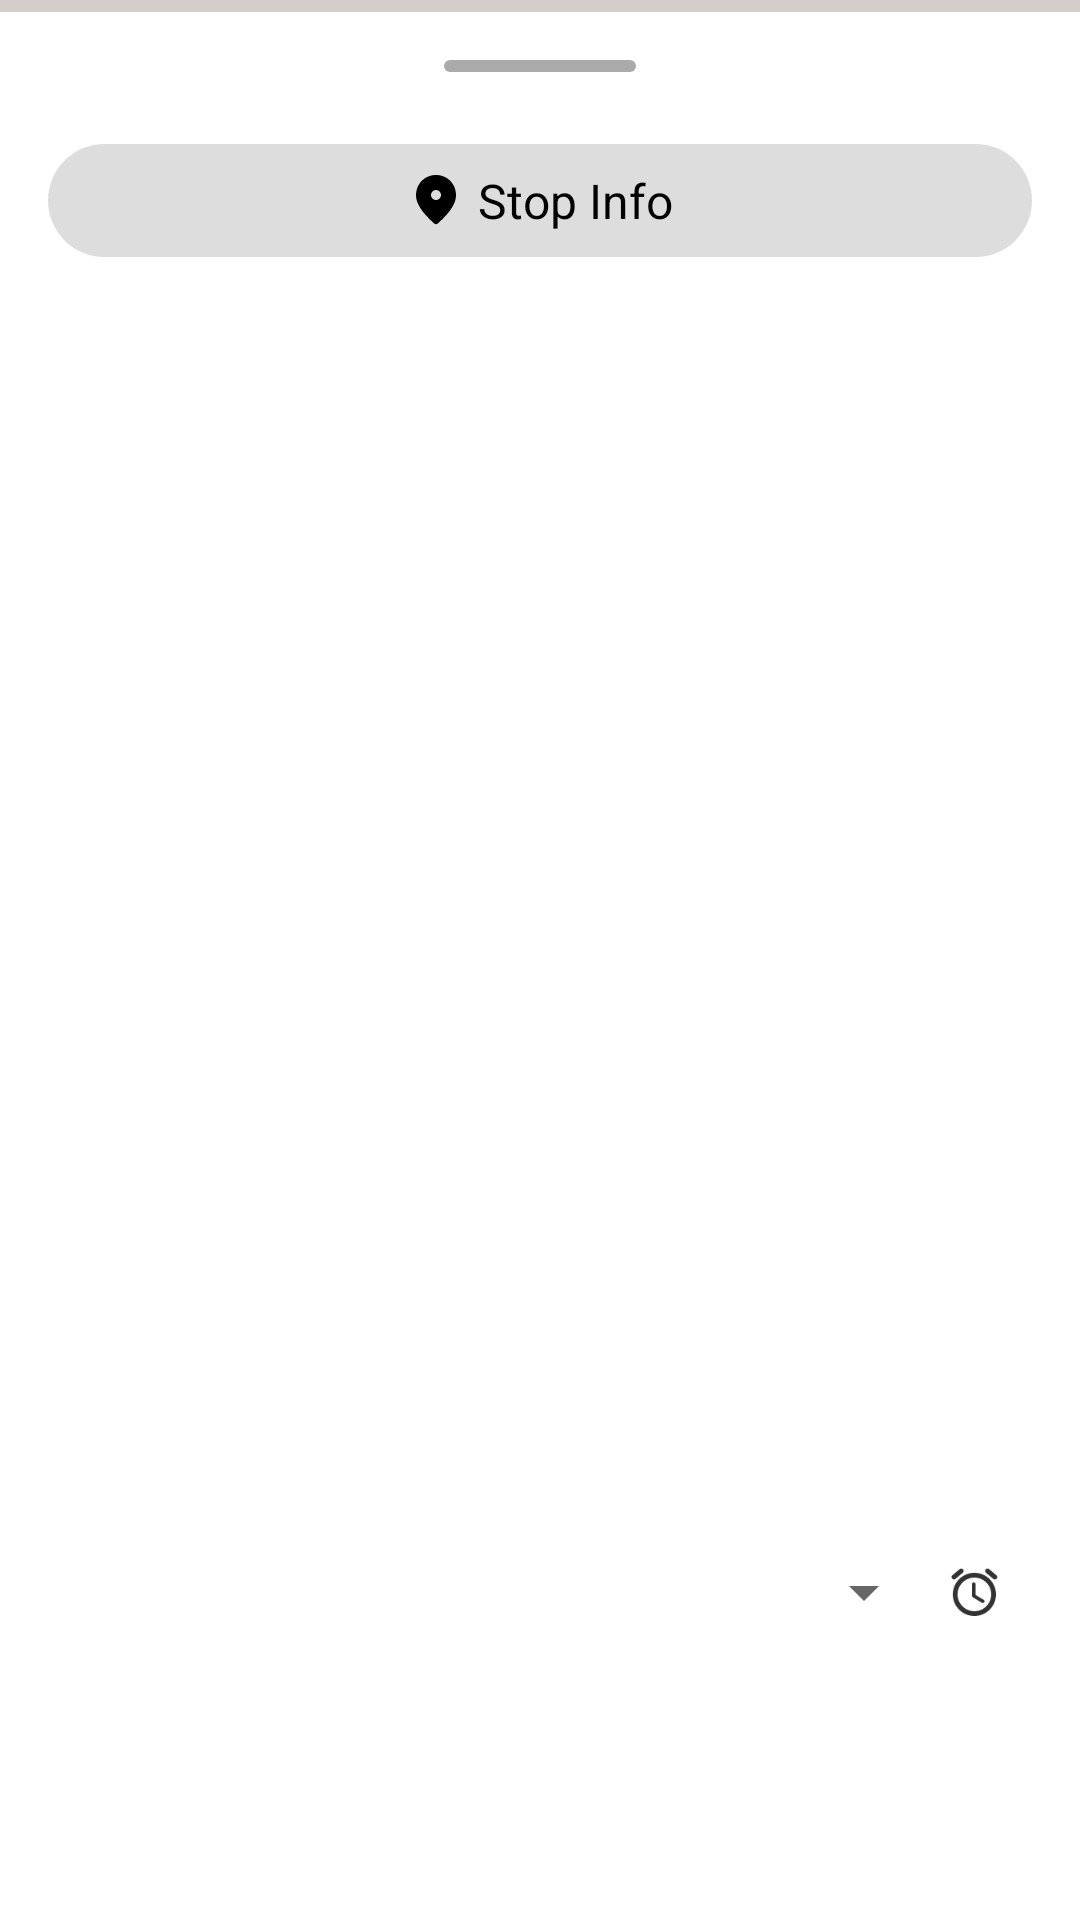

Locate icon controls on the screen. Image size 1080px×1920px, boxes as (x1, y1, x2, y2).
place: (416, 175, 456, 225)
